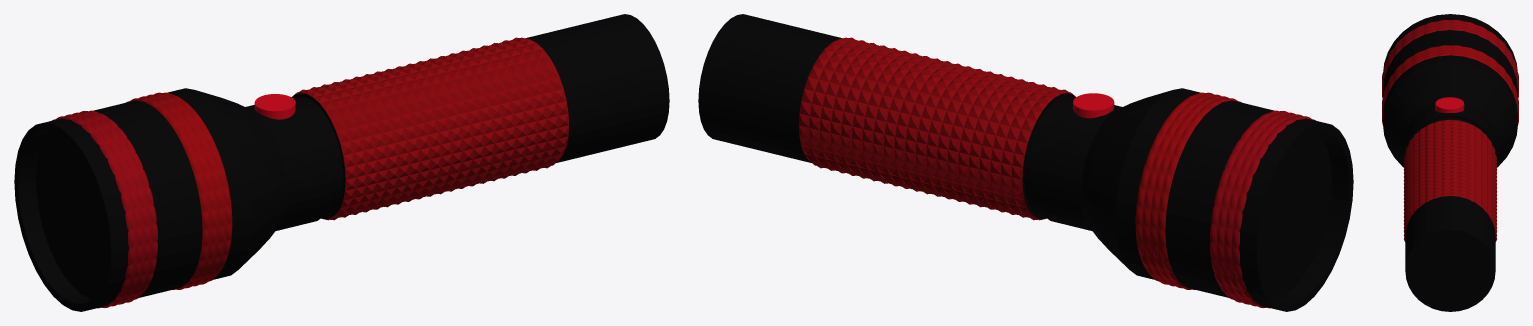
The model's file is Flashlight.obj.
The picture shows the model from 3 angles, left to right: view 1: azimuth 30°, elevation 25°; view 2: azimuth 150°, elevation 25°; view 3: azimuth 270°, elevation 25°; orthographic projection. The views are drawn at different scales.
Parts seen in each view (by area): view 1: Cylinder, Cylinder.001, Cylinder.002, Cylinder.003, Cylinder.004; view 2: Cylinder, Cylinder.001, Cylinder.002, Cylinder.003, Cylinder.004; view 3: Cylinder, Cylinder.001, Cylinder.002, Cylinder.003, Cylinder.004.
Part boxes in pixels (<box>): Cylinder: <box>14,14,669,311</box>; Cylinder.001: <box>292,37,569,220</box>; Cylinder.002: <box>126,92,232,289</box>; Cylinder.003: <box>52,110,157,308</box>; Cylinder.004: <box>254,94,295,119</box>; Cylinder: <box>698,14,1353,311</box>; Cylinder.001: <box>798,37,1075,220</box>; Cylinder.002: <box>1135,92,1241,289</box>; Cylinder.003: <box>1210,110,1315,308</box>; Cylinder.004: <box>1073,93,1114,118</box>; Cylinder: <box>1383,14,1517,311</box>; Cylinder.001: <box>1404,119,1496,241</box>; Cylinder.002: <box>1382,45,1518,124</box>; Cylinder.003: <box>1382,20,1518,98</box>; Cylinder.004: <box>1435,97,1464,112</box>.
Bounding box in the file's own units: 10.26 × 3.03 × 3.03.
